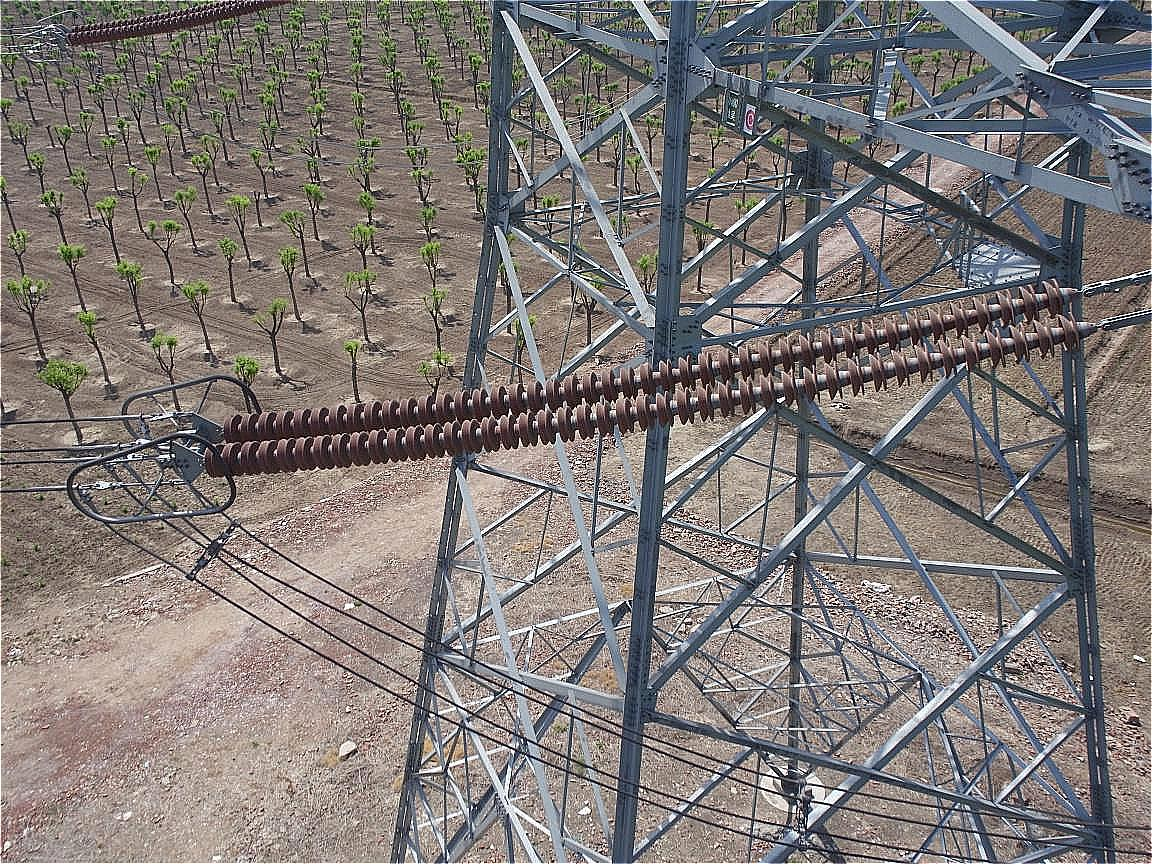insultor2: (209, 254, 1117, 489)
